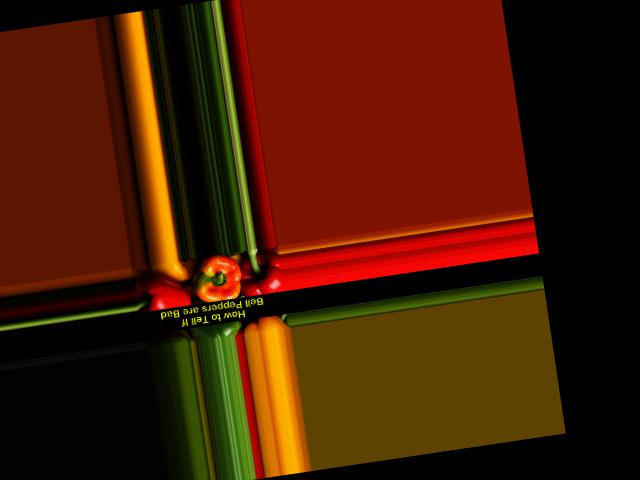bell_pepper: (233, 245, 283, 300)
